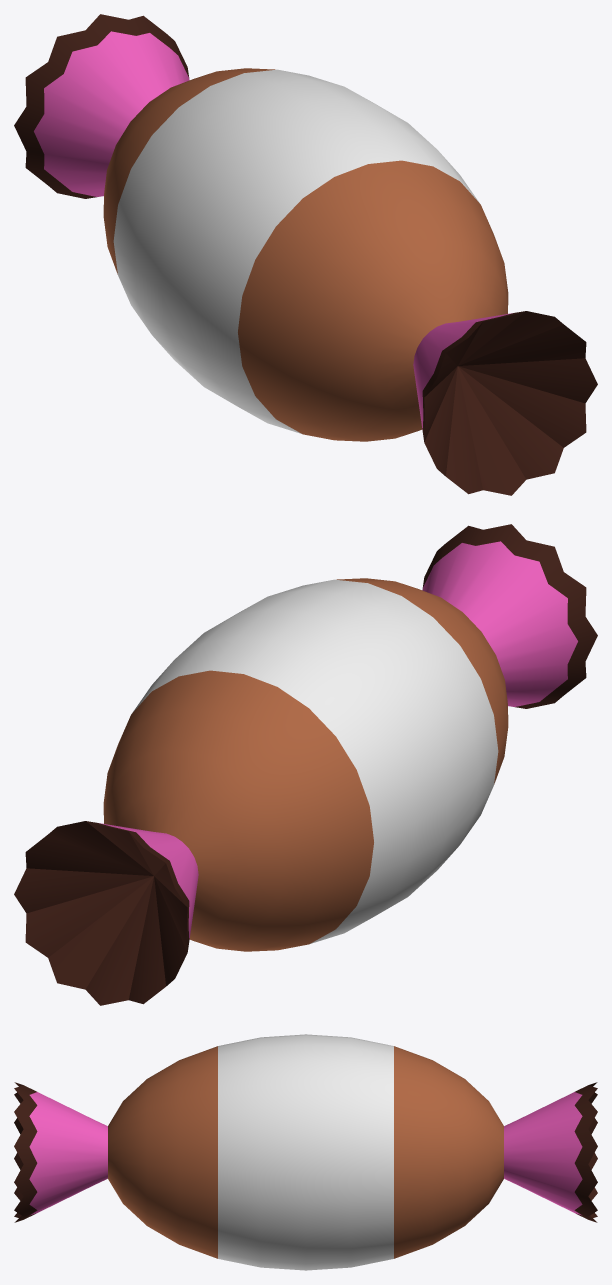
The model's file is Candy.fbx.
3 renders of one model, top to bottom at view 1: azimuth 30°, elevation 25°; view 2: azimuth 150°, elevation 25°; view 3: azimuth 270°, elevation 25°, orthographic. The views are drawn at different scales.
Visible parts, largest first — view 1: Candy; view 2: Candy; view 3: Candy.
Part boxes in pixels (x1,y1,x2,y2): Candy: [14, 14, 597, 495]; Candy: [14, 524, 597, 1005]; Candy: [14, 1034, 597, 1270].
Size of the model in its own units: 0.0874 by 0.0874 by 0.2153.
